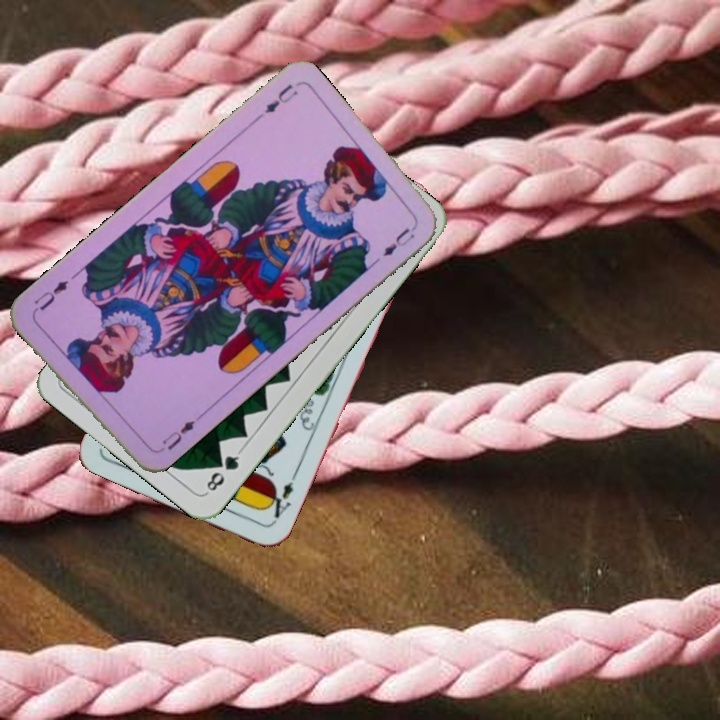EA: (262, 470, 299, 521)
EU: (152, 416, 197, 456), (260, 80, 301, 116)
G8: (202, 446, 244, 496)
